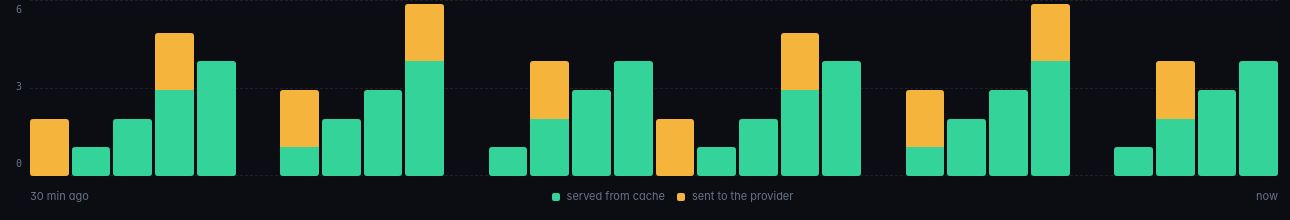
Test: TrafficChart › shows what a minute saved on hover
Hover over the 5th element with class "group" at (216, 88), box [197,0,236,176]
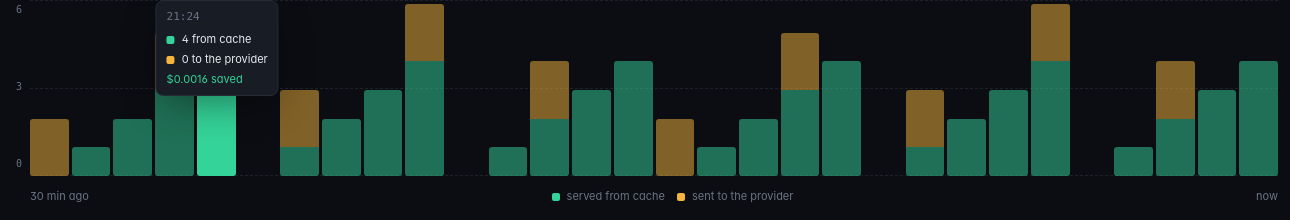
Expected: the text "4 from cache" is shown, [167,32,252,46]
Expected: the text "$0.0016 saved" is shown, [167,72,243,86]
